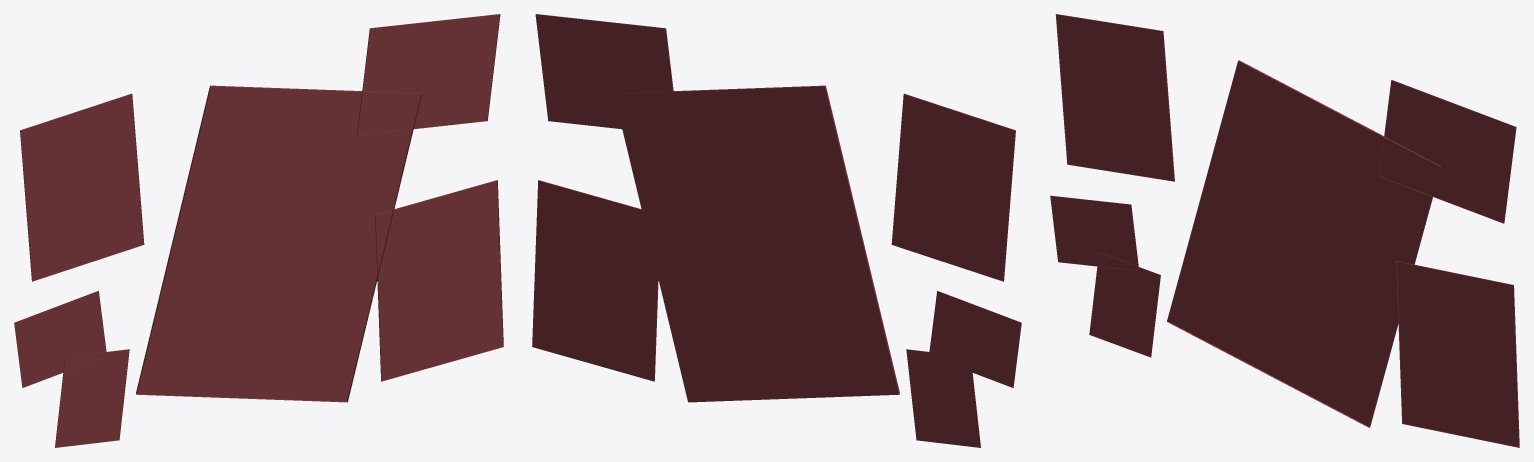
The model's file is Posters.fbx.
3 views of the same model, side by side, from view 1: azimuth 30°, elevation 25°; view 2: azimuth 150°, elevation 25°; view 3: azimuth 330°, elevation 25° (orthographic). The views are drawn at different scales.
Visible parts, largest first — view 1: polySurface20, polySurface21, polySurface17, polySurface16, polySurface18, polySurface19; view 2: polySurface20, polySurface21, polySurface17, polySurface16, polySurface18, polySurface19; view 3: polySurface20, polySurface21, polySurface17, polySurface16, polySurface18, polySurface19.
Boxes of the visible parts, x1,y1,x2,y2 form: polySurface20: (136, 85, 421, 402); polySurface21: (375, 180, 503, 381); polySurface17: (20, 93, 144, 281); polySurface16: (357, 14, 500, 135); polySurface18: (14, 291, 106, 387); polySurface19: (55, 349, 129, 447); polySurface20: (614, 85, 899, 402); polySurface21: (532, 180, 658, 381); polySurface17: (891, 93, 1015, 281); polySurface16: (535, 14, 673, 129); polySurface18: (929, 291, 1021, 387); polySurface19: (906, 349, 980, 447); polySurface20: (1167, 60, 1440, 427); polySurface21: (1396, 261, 1519, 447); polySurface17: (1055, 14, 1174, 181); polySurface16: (1379, 80, 1516, 223); polySurface18: (1050, 195, 1139, 270); polySurface19: (1089, 252, 1160, 357).
Bounding box in the file's own units: 6.23 × 4.48 × 0.0216.
